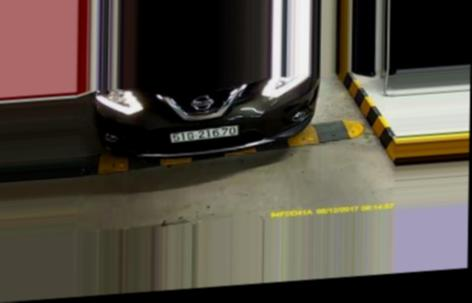License_Plate: (169, 125, 241, 142)
